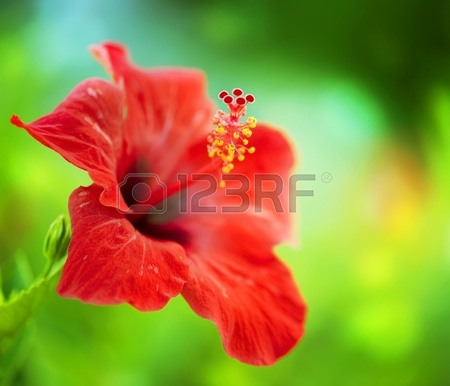Hibiscus: (10, 46, 346, 363)
